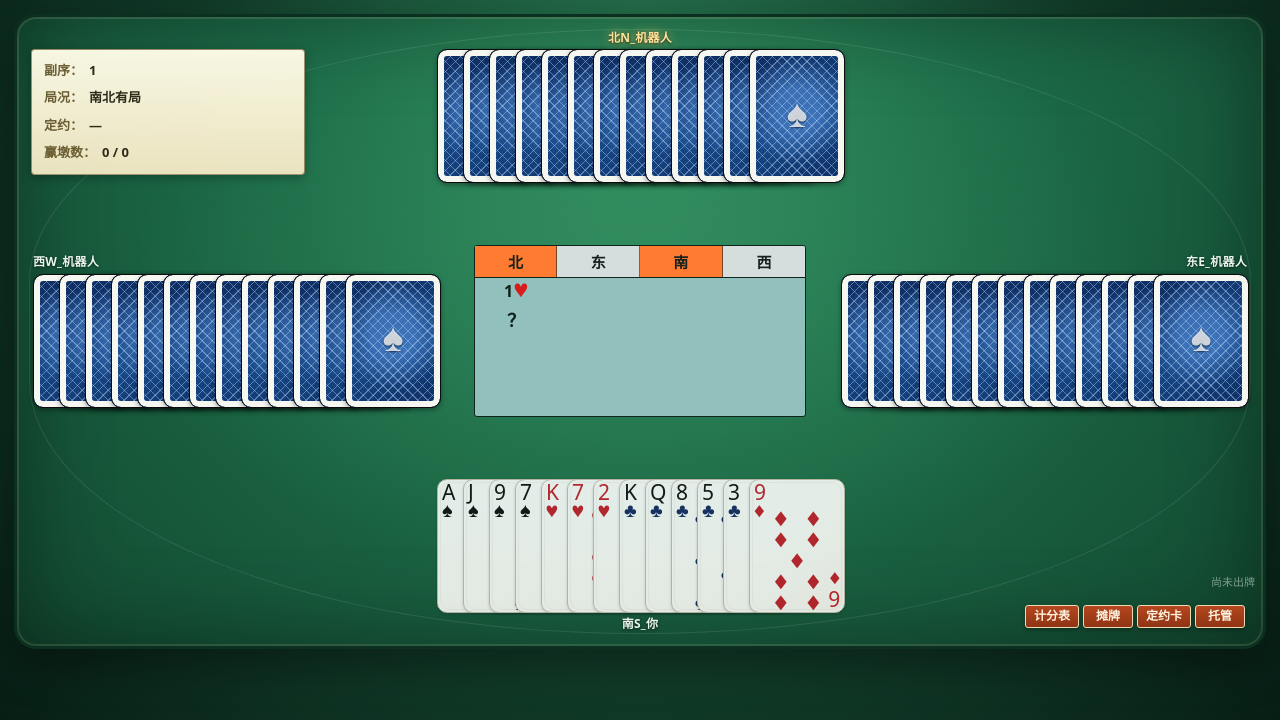
Test: Table 叫牌含义浮层 › 叫牌结束后悬停也不再显示含义浮层
Hover over the element with class "bid-cell" showing "1" at x=516, y=291, box [504,280,528,302]
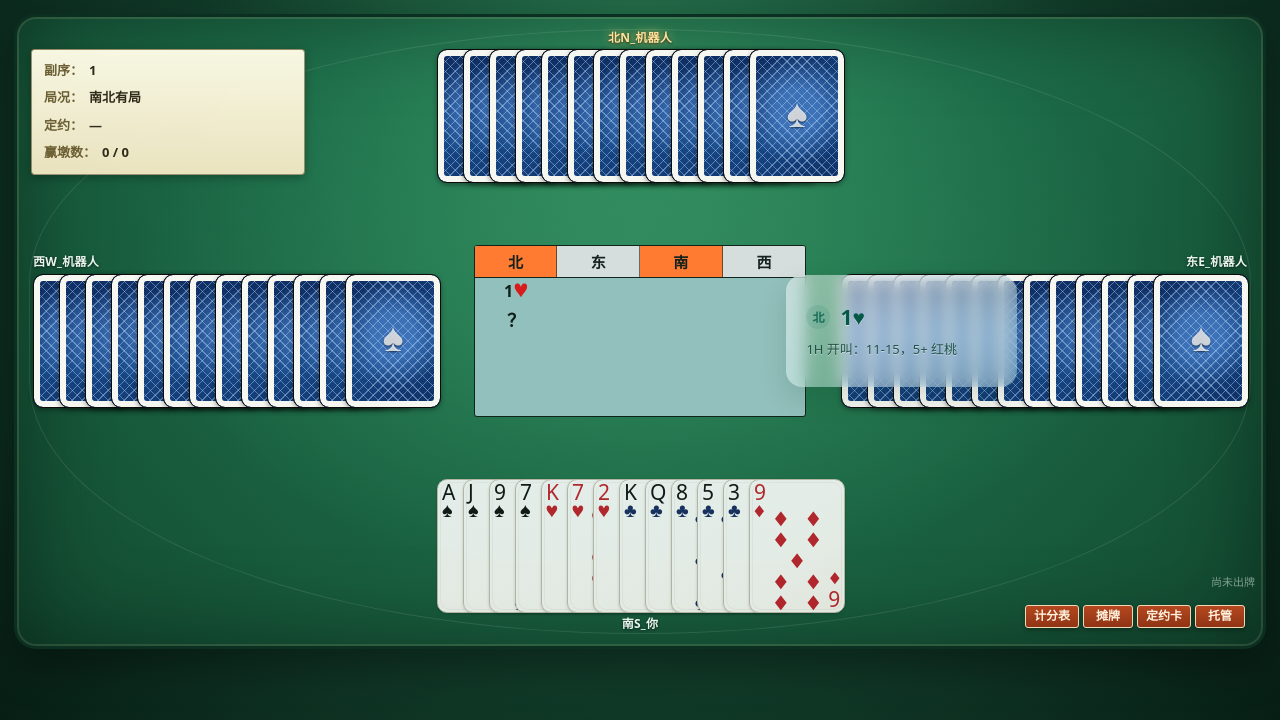
Result: the element with class "bid-meanings" is shown at [786,275,1017,387]
